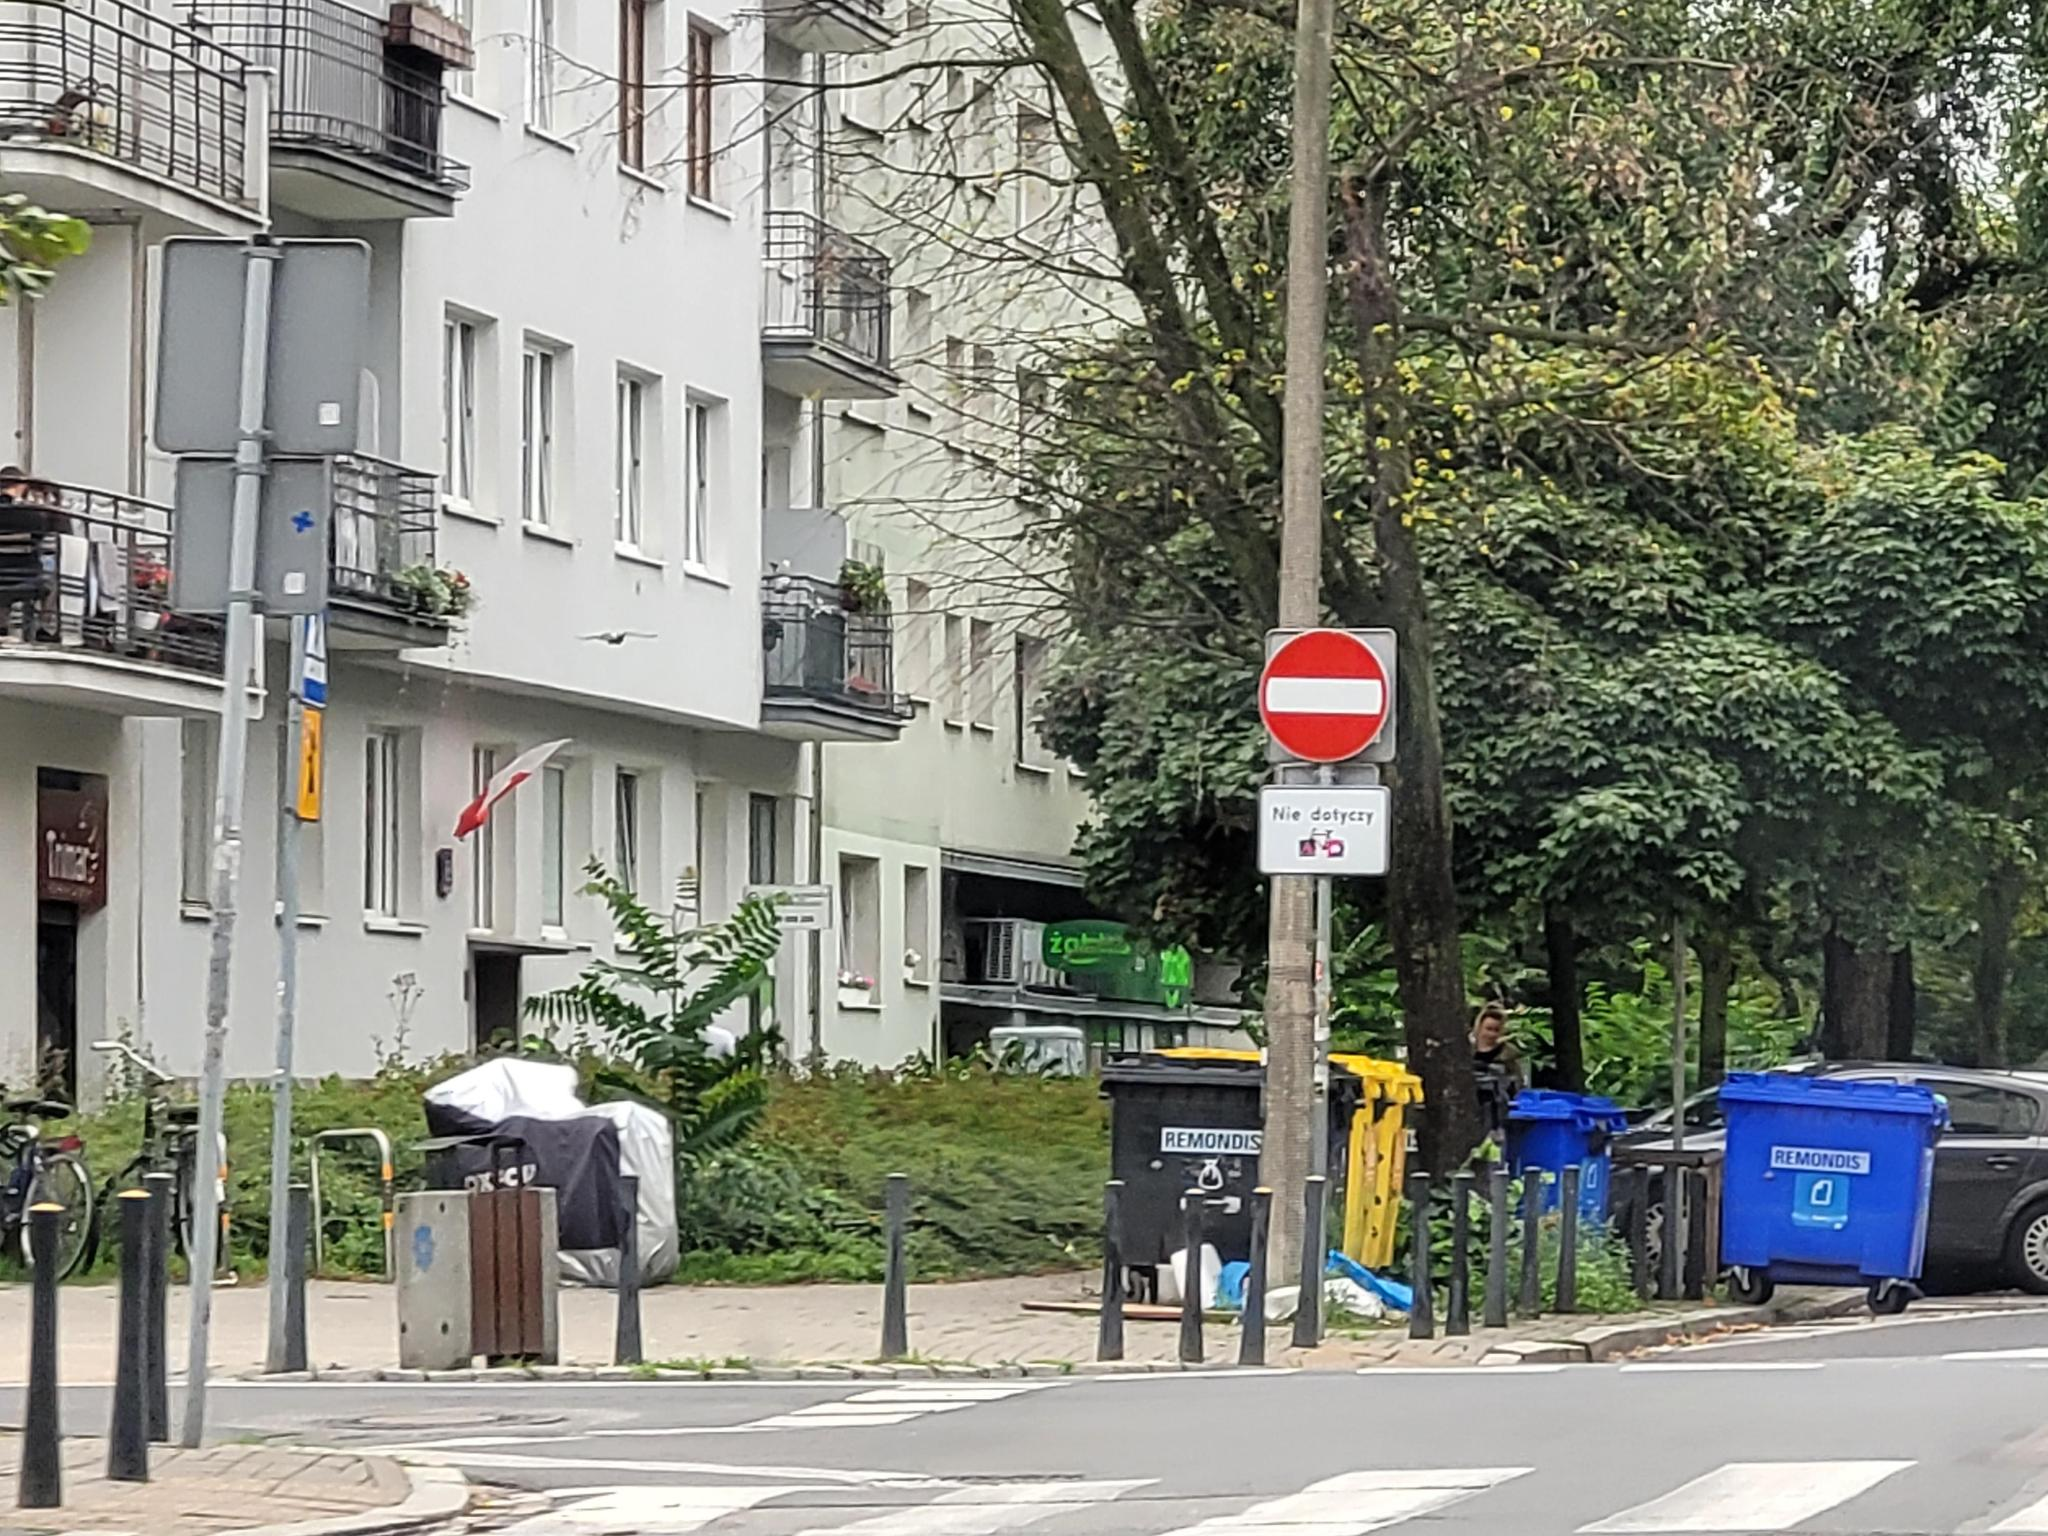information: (303, 615, 327, 707)
other: (1261, 787, 1387, 874), (297, 712, 324, 820)
prohibitory: (1259, 628, 1388, 765)
